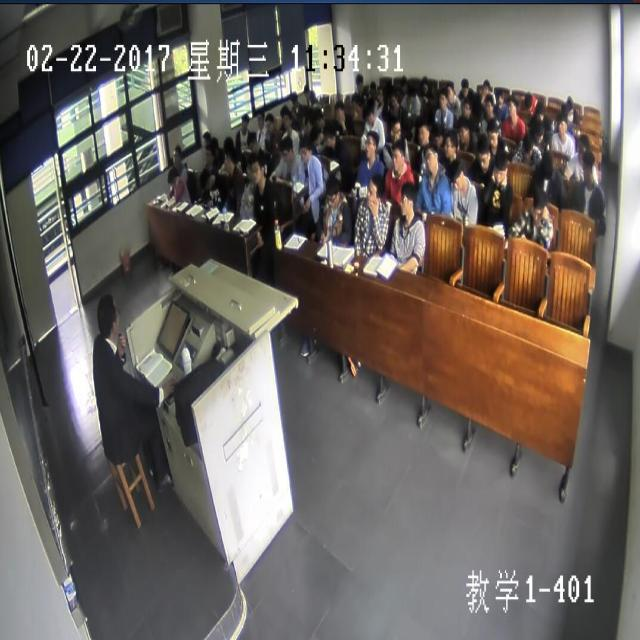person: (95, 294, 122, 340), (398, 181, 416, 217), (448, 157, 465, 191), (366, 173, 383, 206), (324, 174, 340, 206), (532, 185, 546, 221), (493, 148, 507, 182), (299, 137, 315, 166), (477, 133, 490, 168), (364, 132, 379, 159), (392, 140, 405, 171), (423, 142, 436, 173), (582, 150, 594, 183), (444, 129, 457, 159), (252, 156, 265, 185), (577, 131, 589, 162), (486, 116, 498, 147), (542, 149, 554, 179), (280, 135, 293, 162), (334, 100, 347, 126), (223, 146, 237, 170), (322, 125, 336, 148), (362, 99, 373, 128), (458, 116, 469, 145), (390, 118, 402, 144), (417, 120, 429, 146), (522, 132, 534, 158), (245, 154, 256, 182), (310, 124, 323, 146), (199, 168, 213, 188), (246, 130, 258, 153), (312, 106, 324, 128), (432, 122, 442, 148), (557, 115, 568, 137), (172, 144, 182, 166), (240, 111, 250, 133), (461, 96, 471, 118), (507, 96, 517, 118), (534, 118, 543, 142), (224, 134, 234, 155), (351, 89, 361, 110), (485, 91, 494, 114), (201, 130, 211, 150), (282, 109, 292, 129), (167, 168, 178, 186), (534, 100, 543, 122), (302, 116, 312, 135), (438, 88, 448, 107), (265, 111, 273, 134), (204, 144, 213, 164), (406, 86, 416, 104), (446, 82, 455, 102), (256, 109, 265, 128), (355, 73, 364, 92), (460, 78, 469, 96), (524, 91, 533, 109), (369, 78, 377, 98), (496, 89, 504, 109), (560, 102, 568, 122), (280, 105, 289, 122), (390, 89, 398, 108), (566, 95, 574, 114), (210, 135, 218, 153), (377, 87, 386, 103), (304, 84, 312, 100), (482, 78, 490, 94), (399, 74, 406, 92), (421, 74, 428, 92), (290, 90, 298, 105)
